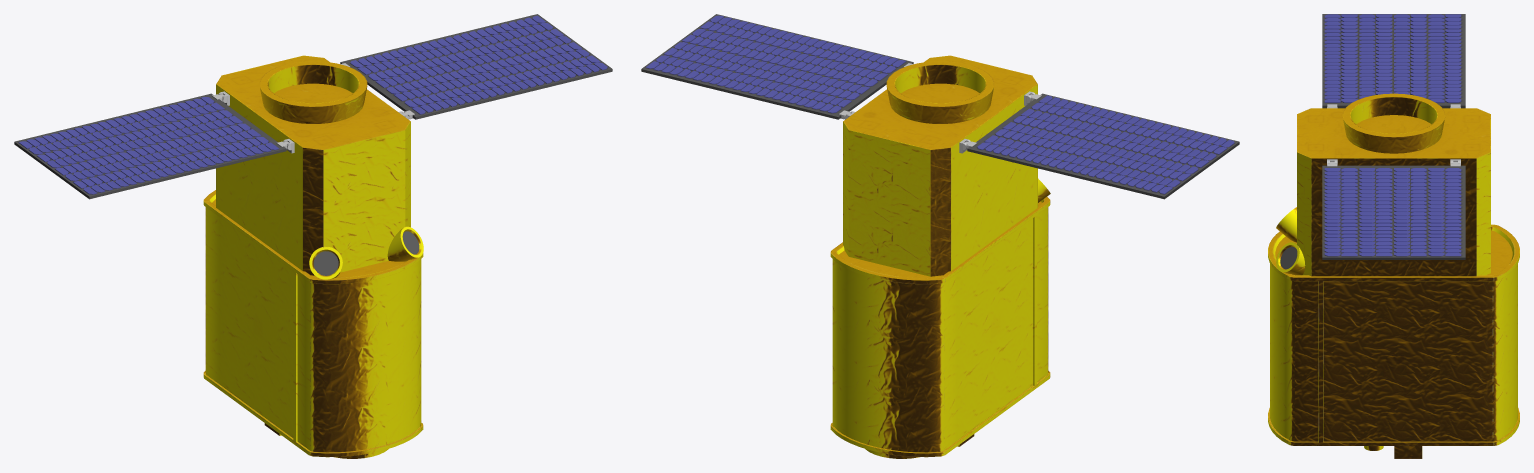
Rendered from 0.5mlow.glb.
3 renders of one model, left to right at view 1: azimuth 30°, elevation 25°; view 2: azimuth 150°, elevation 25°; view 3: azimuth 270°, elevation 25°, orthographic. The views are drawn at different scales.
Visible parts, largest first — view 1: Cube.073, Cube.072, Cube.078, Cube.075, Cylinder.047, Cylinder.048; view 2: Cube.073, Cube.072, Cube.078, Cube.075, Cylinder.047; view 3: Cube.073, Cube.078, Cube.072, Cube.075, Cylinder.047, Cylinder.048, Cube.076.
Boxes of the visible parts, bbox=[...] form: Cube.073: bbox=[203, 190, 423, 457]; Cube.072: bbox=[216, 55, 410, 275]; Cube.078: bbox=[18, 15, 607, 194]; Cube.075: bbox=[14, 14, 612, 199]; Cylinder.047: bbox=[259, 61, 367, 123]; Cylinder.048: bbox=[309, 226, 423, 279]; Cube.073: bbox=[830, 197, 1050, 457]; Cube.072: bbox=[843, 55, 1037, 276]; Cube.078: bbox=[645, 15, 1234, 194]; Cube.075: bbox=[641, 14, 1239, 199]; Cylinder.047: bbox=[886, 61, 994, 123]; Cube.073: bbox=[1268, 224, 1519, 445]; Cube.078: bbox=[1324, 14, 1461, 256]; Cube.072: bbox=[1297, 108, 1490, 276]; Cube.075: bbox=[1322, 14, 1465, 259]; Cylinder.047: bbox=[1342, 93, 1445, 153]; Cylinder.048: bbox=[1276, 207, 1305, 275]; Cube.076: bbox=[1394, 446, 1422, 458].
Size of the model in its own units: 5.93 by 3.72 by 2.59.
Materials: 1 (1 with a texture image).
